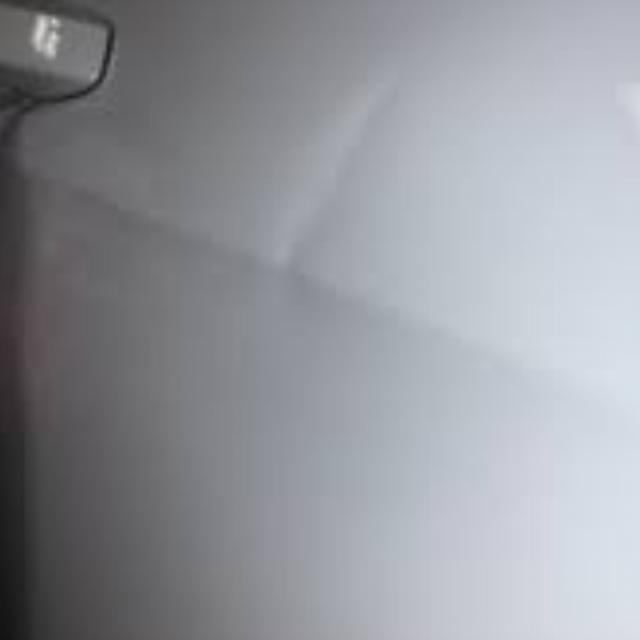dents: (274, 44, 430, 338)
